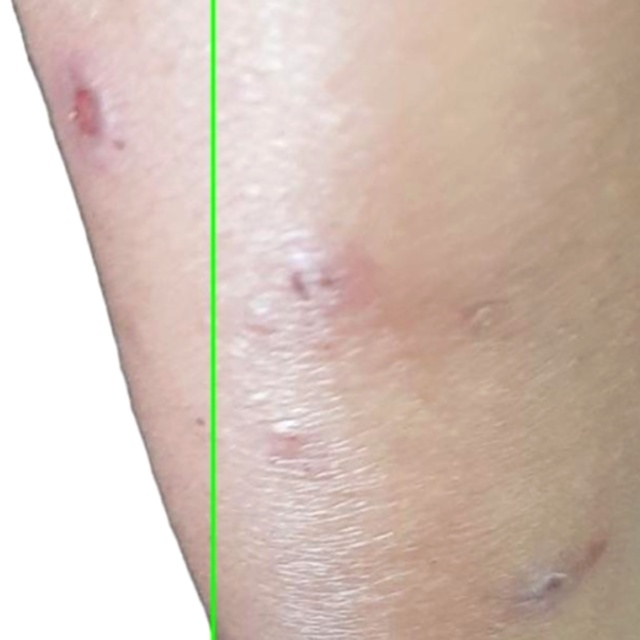Eczema: (0, 0, 213, 639)
